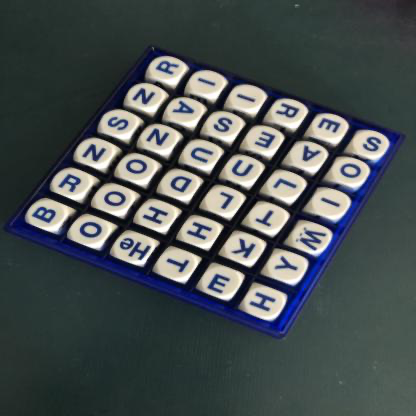a: (291, 144, 328, 170), (168, 98, 205, 123)
b: (27, 202, 67, 230)
d: (163, 172, 200, 201)
e: (199, 267, 240, 298), (314, 112, 348, 141), (246, 128, 283, 153)
h: (244, 288, 284, 320), (139, 202, 178, 232), (182, 219, 217, 247)
he: (115, 234, 155, 265)
i: (230, 86, 269, 112), (312, 191, 349, 218), (189, 70, 225, 96)
k: (226, 235, 264, 266), (207, 190, 243, 216)
l: (268, 172, 305, 201)
n: (78, 139, 114, 169), (141, 125, 178, 153), (127, 84, 165, 110)
o: (117, 155, 158, 182), (331, 159, 371, 186), (72, 217, 110, 245), (96, 187, 136, 213)
r: (54, 169, 92, 199), (272, 99, 310, 125), (150, 57, 187, 81)
s: (353, 131, 392, 160), (103, 110, 140, 137), (205, 113, 242, 139)
t: (158, 251, 196, 280), (248, 206, 288, 232)
u: (183, 142, 221, 170), (226, 157, 262, 184)
w: (293, 224, 332, 255)
y: (269, 253, 307, 284)
